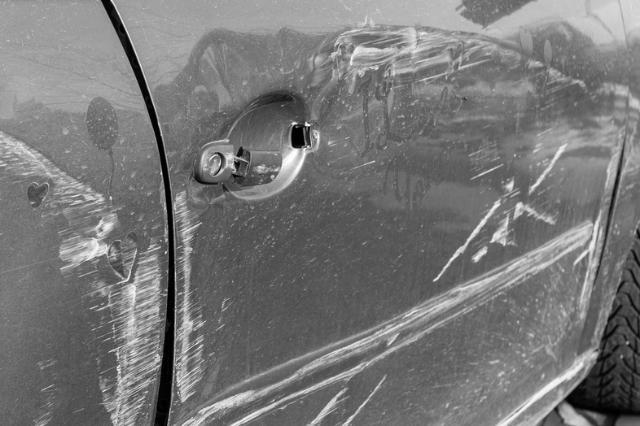Door: (0, 0, 640, 405)
